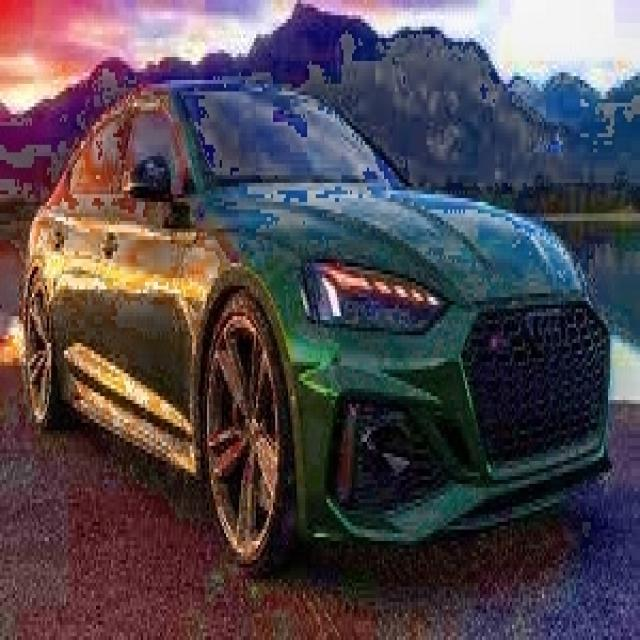green: (19, 82, 610, 577)
